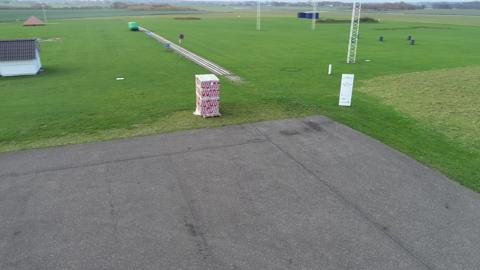RockwoolPallet: (194, 74, 221, 118)
